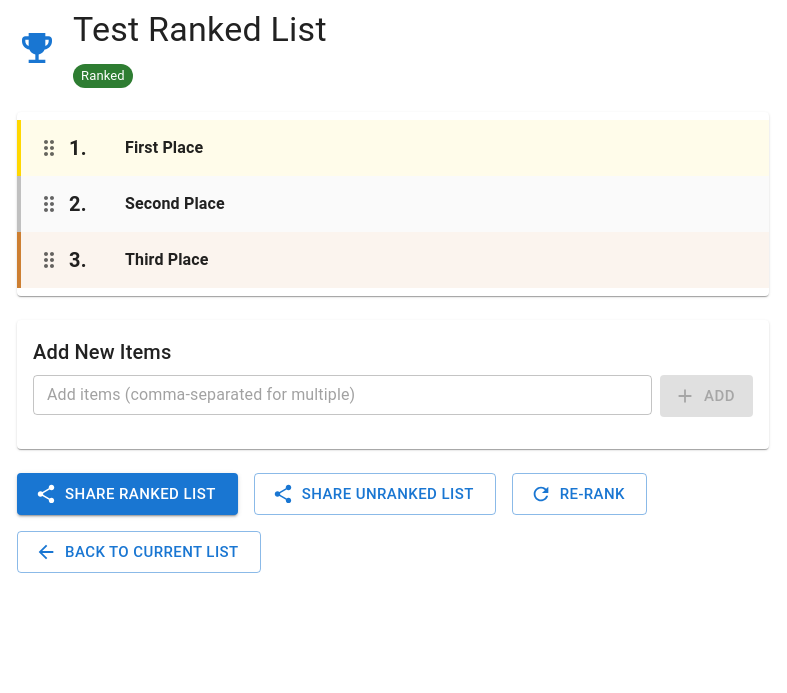
Scenario: RankedResultView › Unranked Items Display › deletes unranked item when delete clicked
The width and height of the screenshot is (787, 693).
Type "To Delete" into the field with placeholder "Add items (comma-separated for multiple)" at point(343, 395), box [33,375,652,415]
Then press Enter
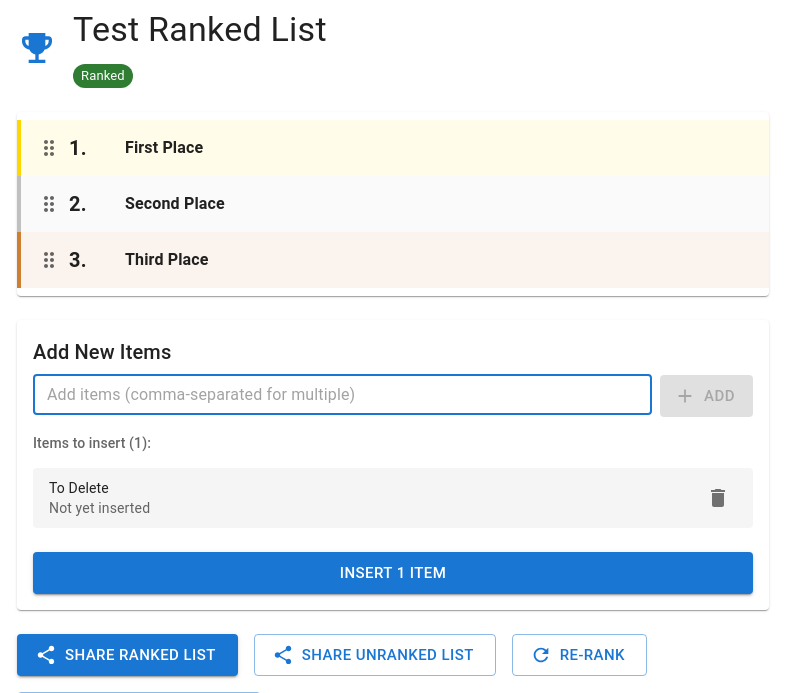
Now the text "To Delete" is shown, box [49,480,109,496]
Click the button without text in the row of "To Delete" at point(718, 498), box [696,476,740,520]
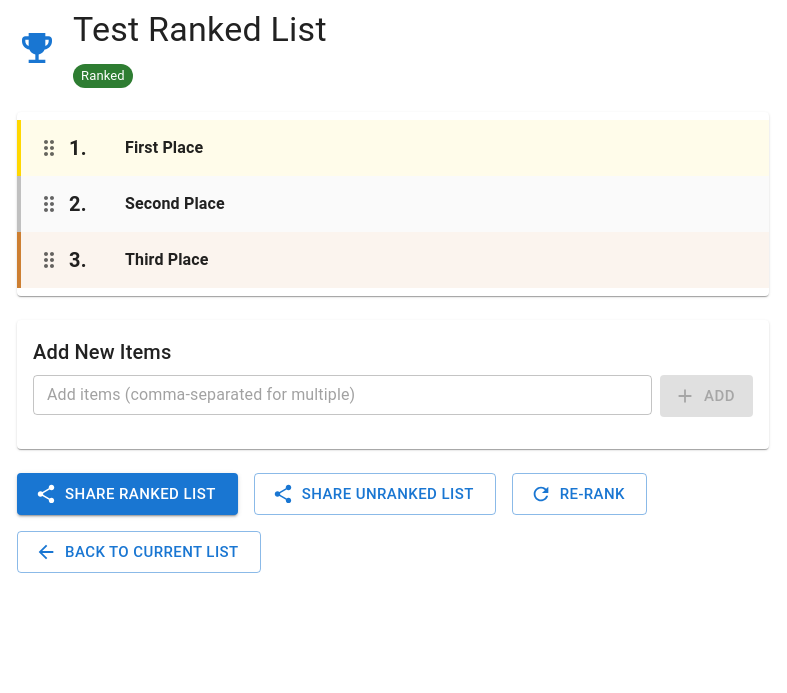
Now the text "To Delete" is gone
